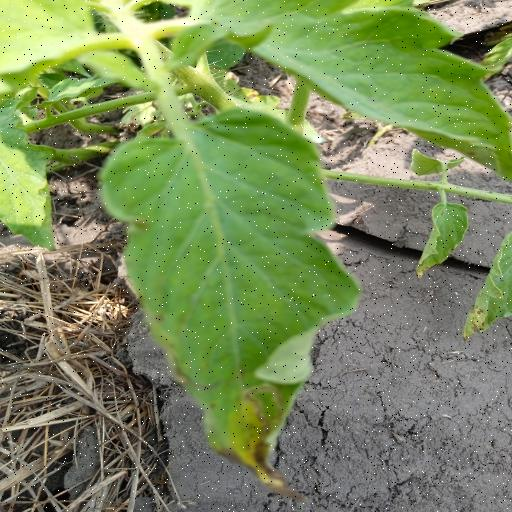Tomato_Brown_Spots: (96, 104, 363, 496), (171, 0, 512, 173)
